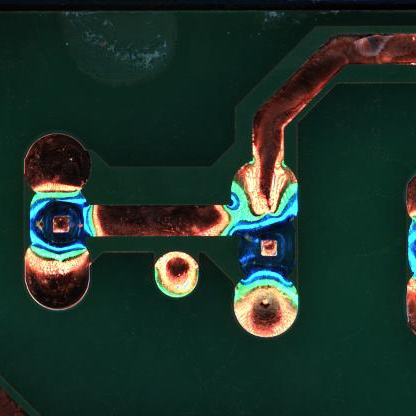spot: (28, 190, 90, 257), (239, 220, 297, 283)
